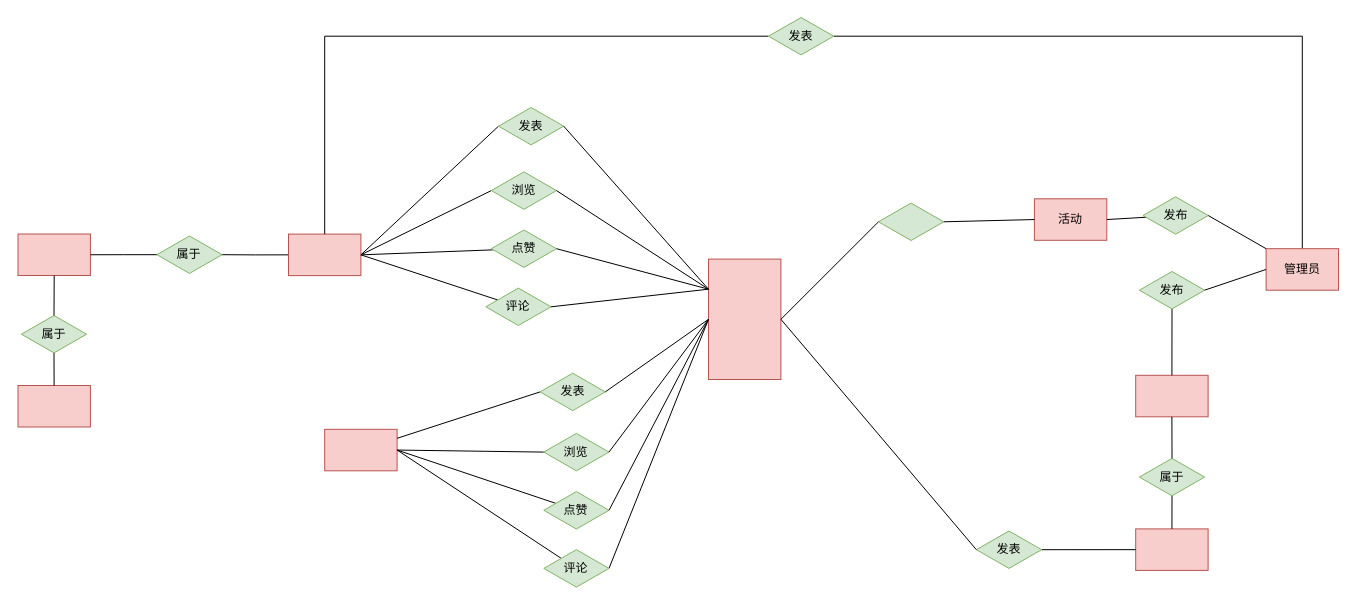
Image size: 1356x605. Some labels were removed from this diagram. The centre of each missing label's shape, as x and y in pixels:
"参加" goes at pixel 911 221.
"宠物" goes at pixel 53 405.
"宠物类别" goes at pixel 53 254.
"帖子" goes at pixel 1171 549.
"文章" goes at pixel 324 254.
"用户" goes at pixel 744 319.
"话题" goes at pixel 1171 395.
"说说" goes at pixel 360 449.
